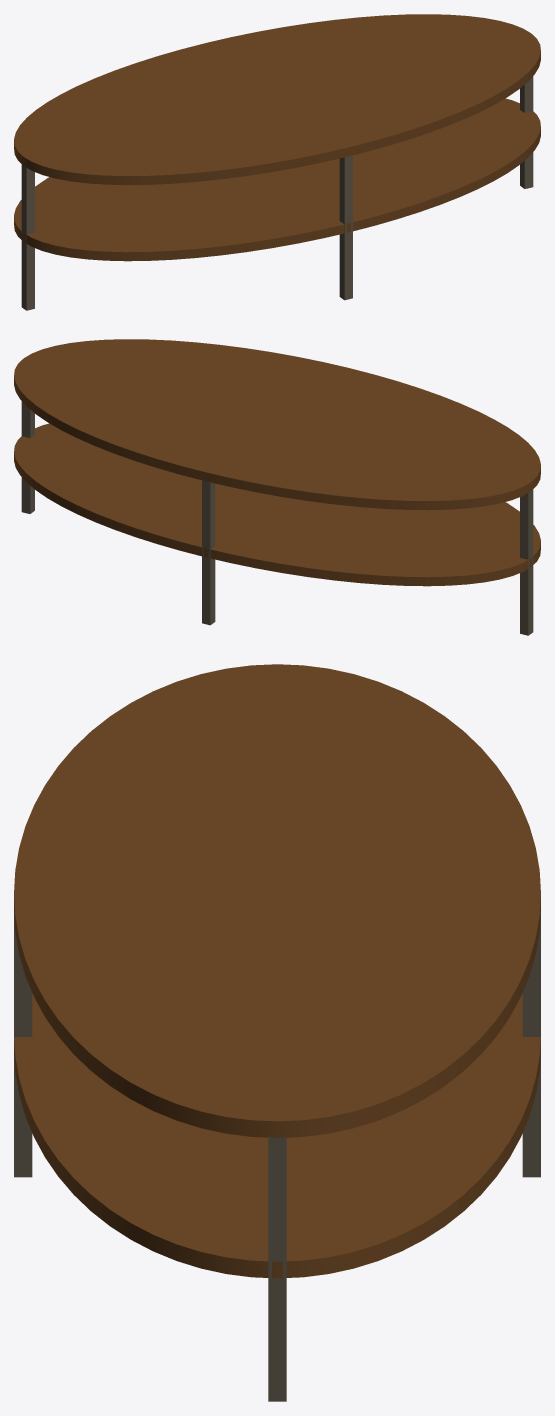
3 renders of one model, top to bottom at view 1: azimuth 30°, elevation 25°; view 2: azimuth 150°, elevation 25°; view 3: azimuth 270°, elevation 25°, orthographic. The views are drawn at different scales.
Parts seen in each view (by area): view 1: oval_table; view 2: oval_table; view 3: oval_table.
Part boxes in pixels (x1=…): oval_table: x1=14, y1=14, x2=540, y2=310; oval_table: x1=14, y1=339, x2=540, y2=635; oval_table: x1=14, y1=664, x2=540, y2=1401.
Size of the model in its own units: 1 by 0.2862 by 0.4872.
